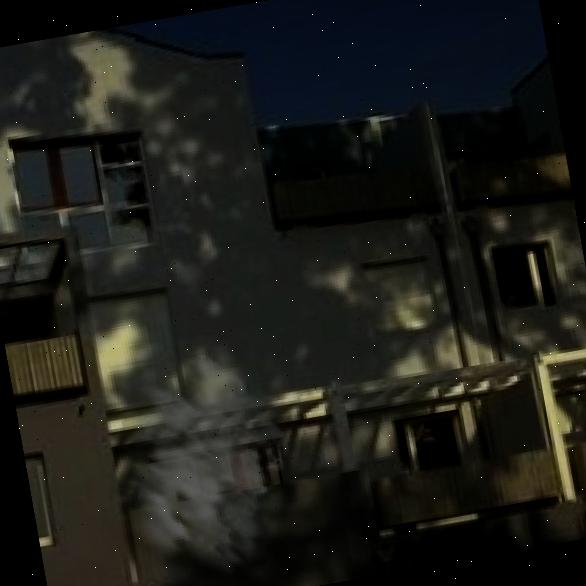smoke: (71, 329, 316, 586)
